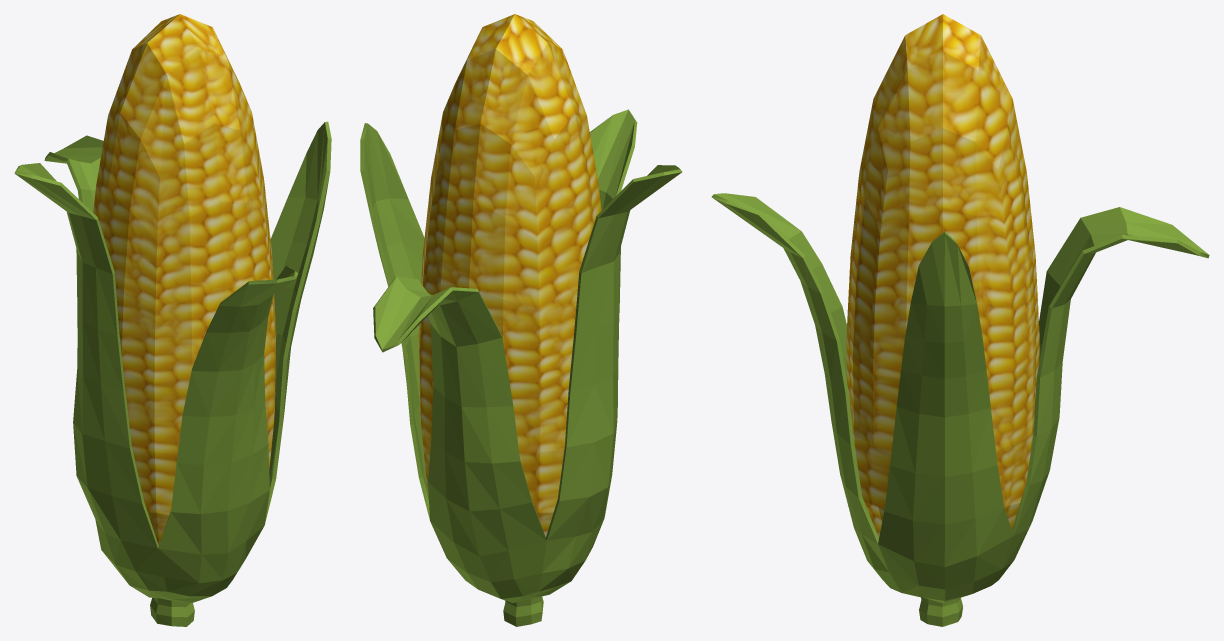
Rendered from Ear of corn by Poly by Google - 3zsUEPnTdFt.glb.
The picture shows the model from 3 angles, left to right: view 1: azimuth 30°, elevation 25°; view 2: azimuth 150°, elevation 25°; view 3: azimuth 270°, elevation 25°; orthographic projection.
Visible parts, largest first — view 1: Node; view 2: Node; view 3: Node.
Part boxes in pixels (<box>): Node: <box>14,14,331,626</box>; Node: <box>360,14,682,626</box>; Node: <box>711,14,1209,626</box>.
Bounding box in the file's own units: 1.7 × 3.12 × 2.3.
Materials: 2 (1 with a texture image).
